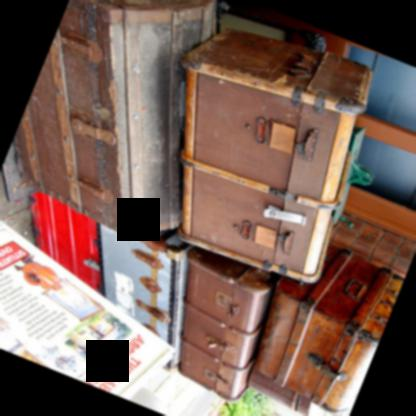suitcase: (173, 27, 371, 284), (13, 0, 217, 238), (249, 247, 403, 414), (180, 246, 275, 402), (98, 222, 182, 375), (29, 186, 102, 297)
